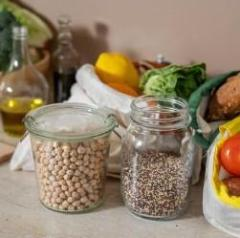glass: (26, 92, 194, 222)
